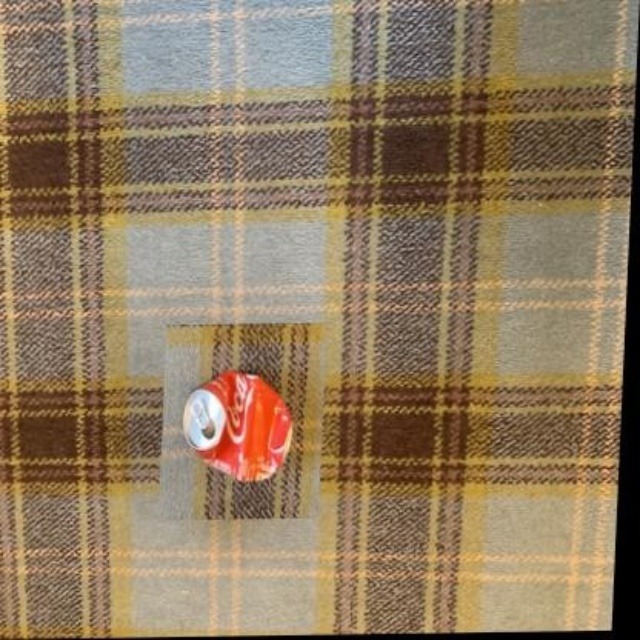trash: (183, 371, 291, 480)
